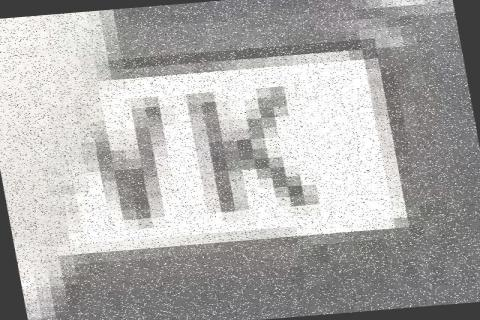LicensePlate: (46, 20, 422, 258)
